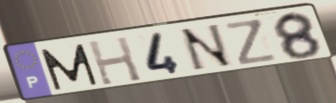4: (144, 29, 186, 77)
8: (270, 10, 326, 61)
H: (85, 35, 145, 87)
M: (37, 42, 101, 93)
N: (177, 22, 237, 74)
Z: (222, 17, 280, 67)
